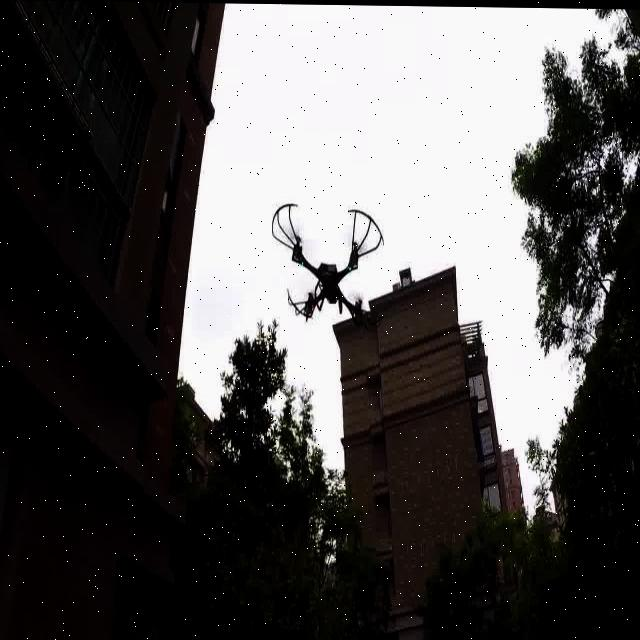drone: (264, 178, 386, 342)
